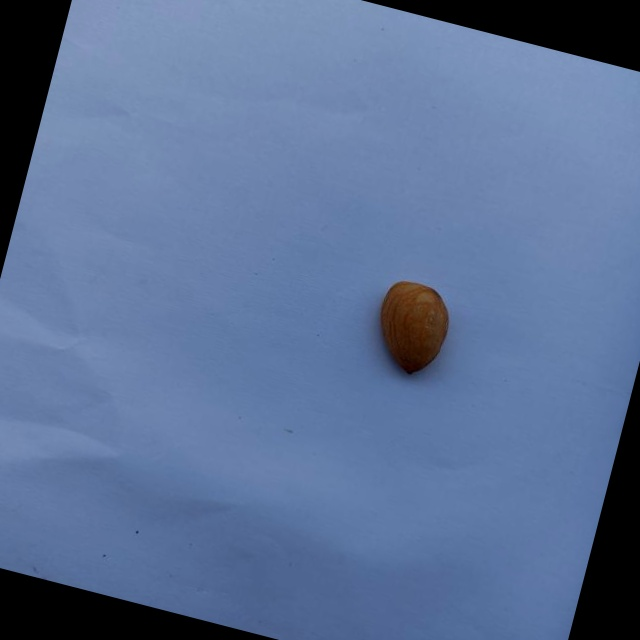grade2: (360, 271, 461, 384)
